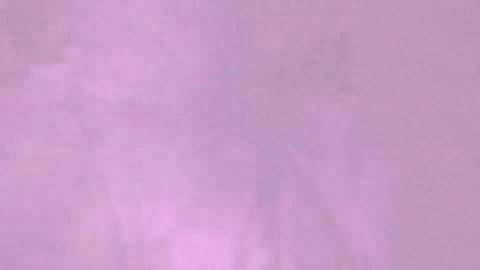tomato: (193, 121, 420, 268)
